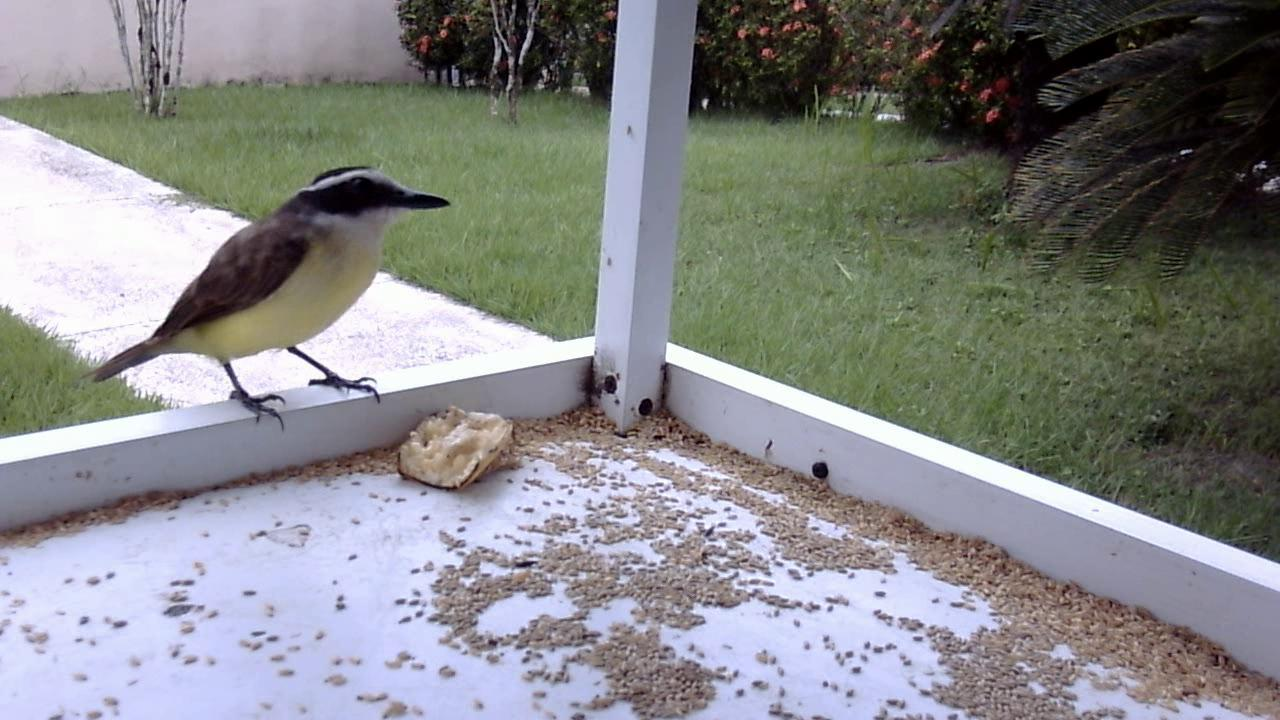bem_te_vi: (75, 157, 461, 438)
